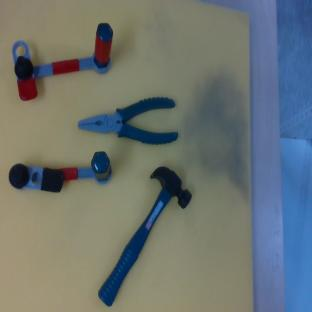non_pass: (7, 151, 112, 198)
pass: (2, 9, 125, 102)
